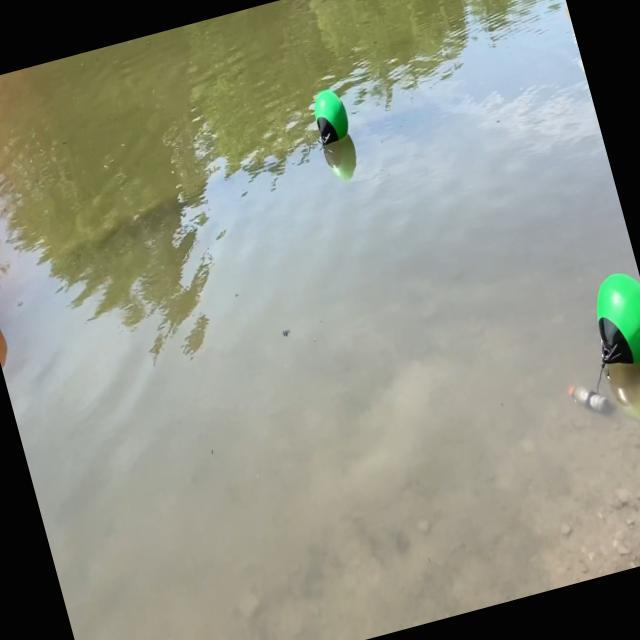buoy: (580, 264, 640, 380), (303, 82, 355, 151)
